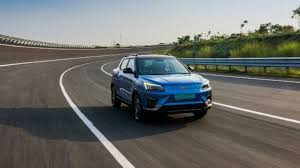XUV 400: (110, 53, 213, 122)
